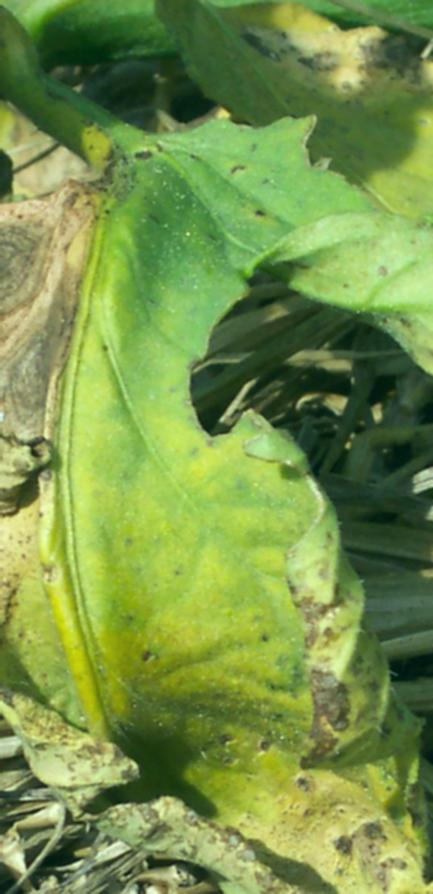Tomato Early blight leaf: (0, 58, 433, 894)
